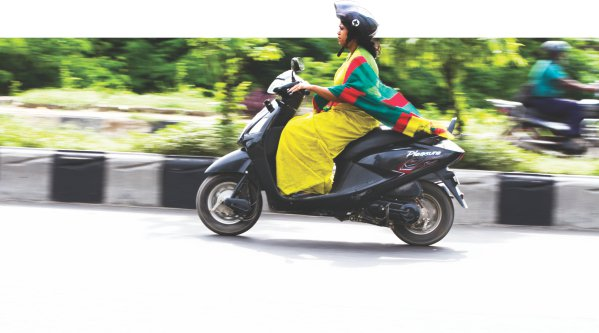motorbike: (484, 91, 599, 160)
scooter: (195, 54, 468, 247)
